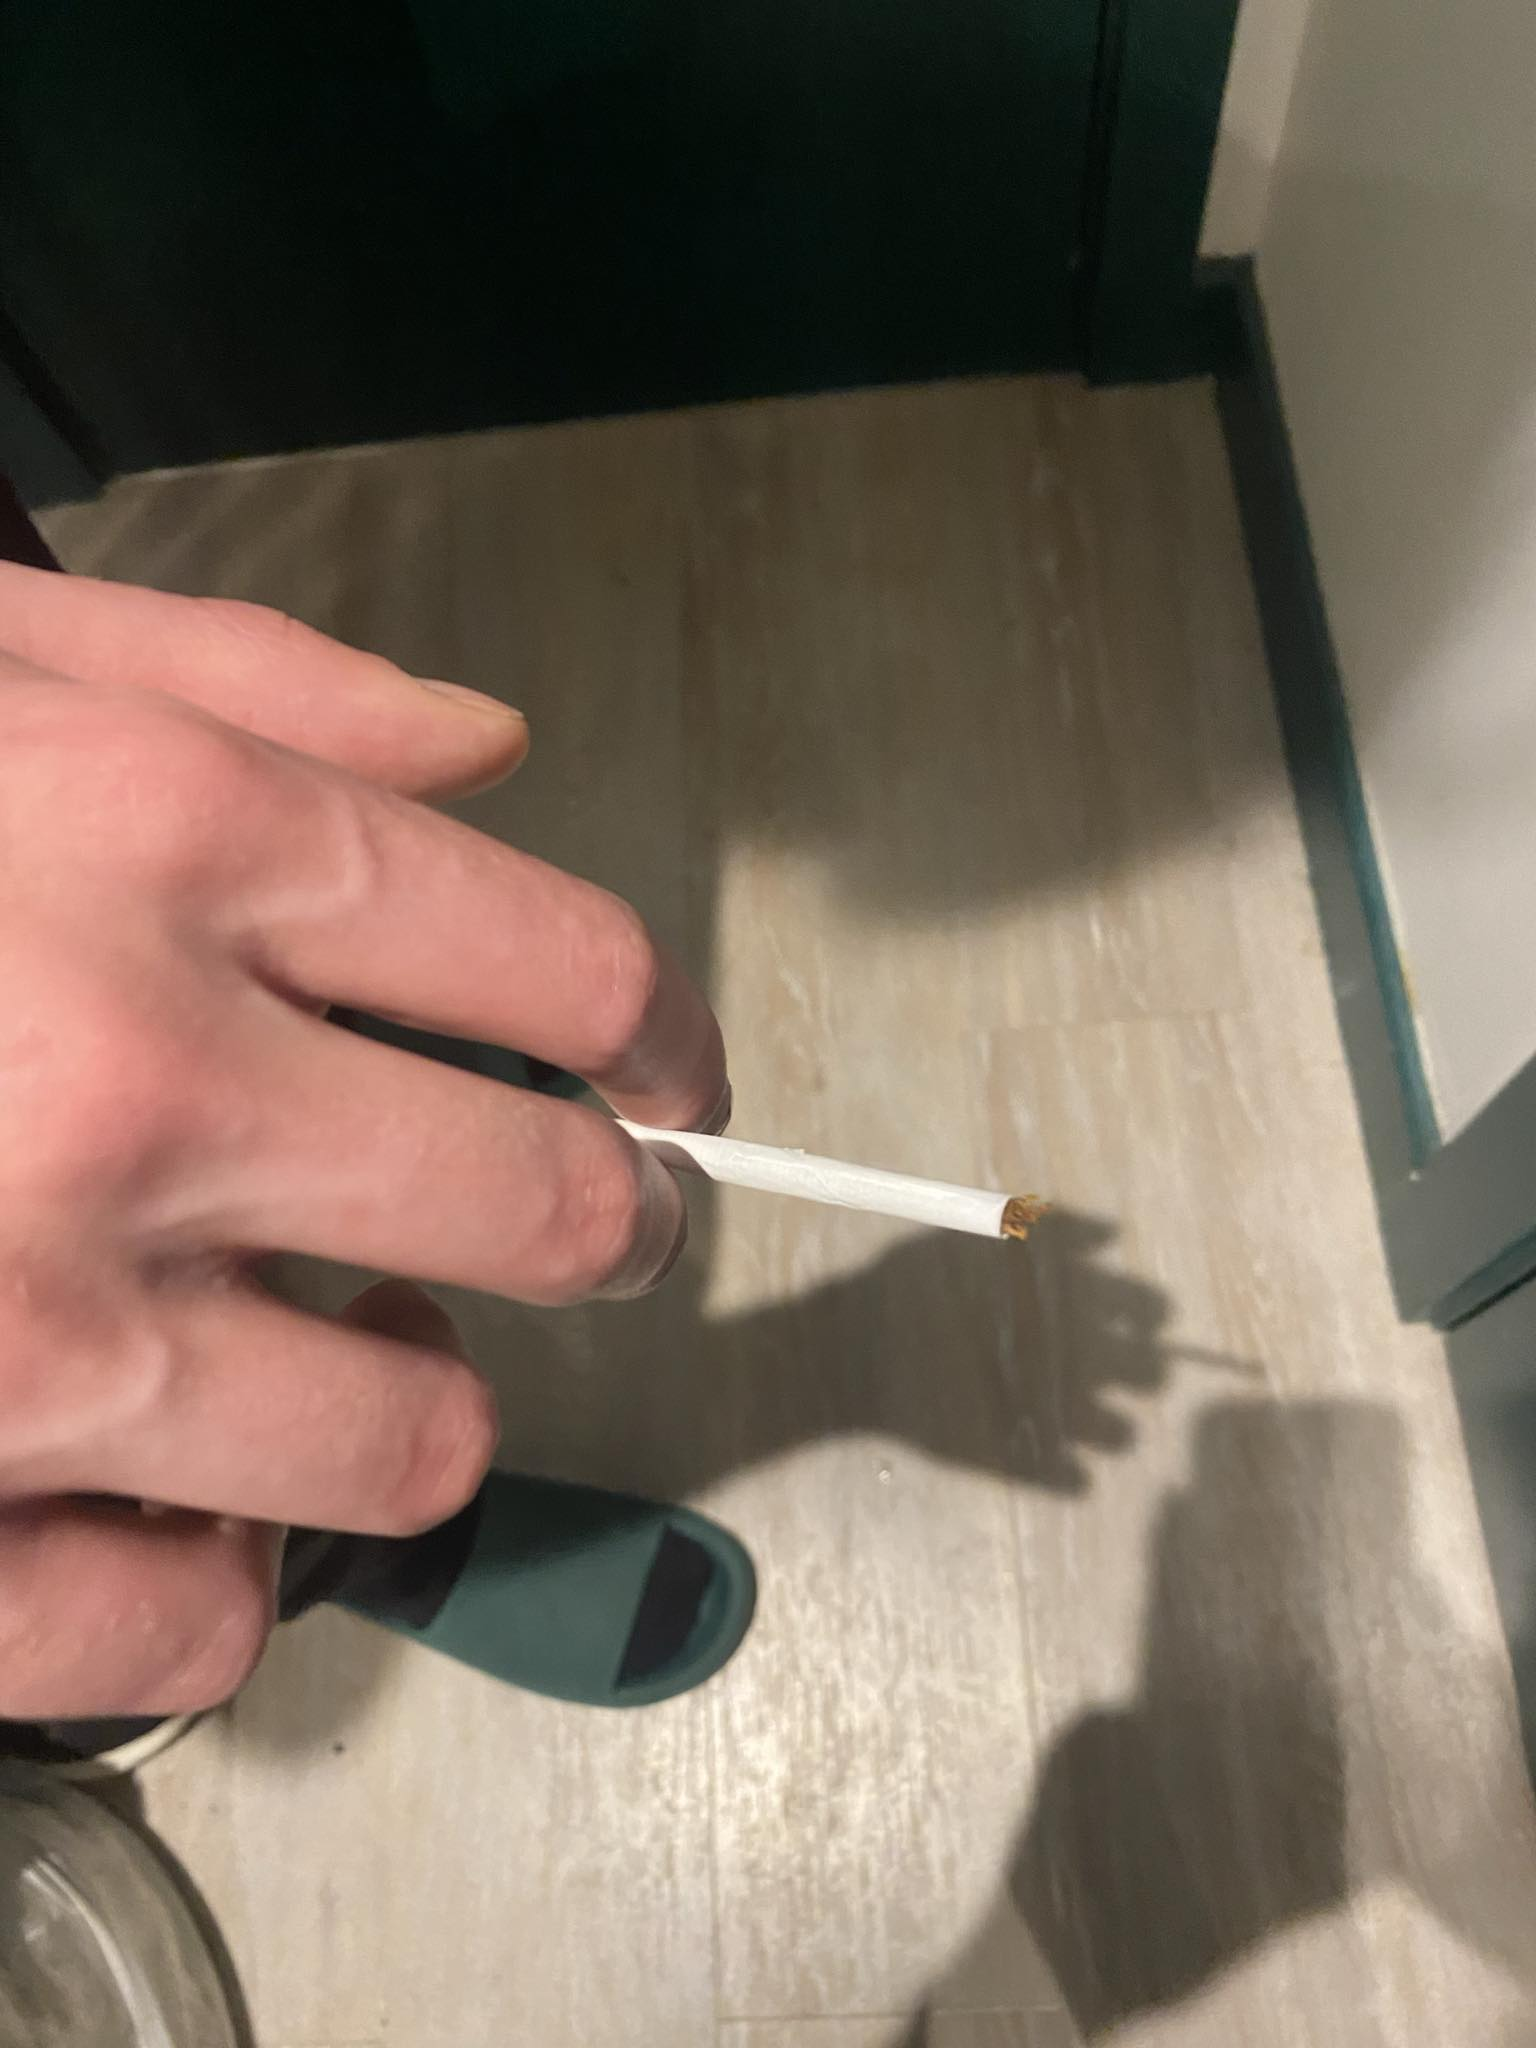Cigarette: (620, 1113, 1042, 1247)
